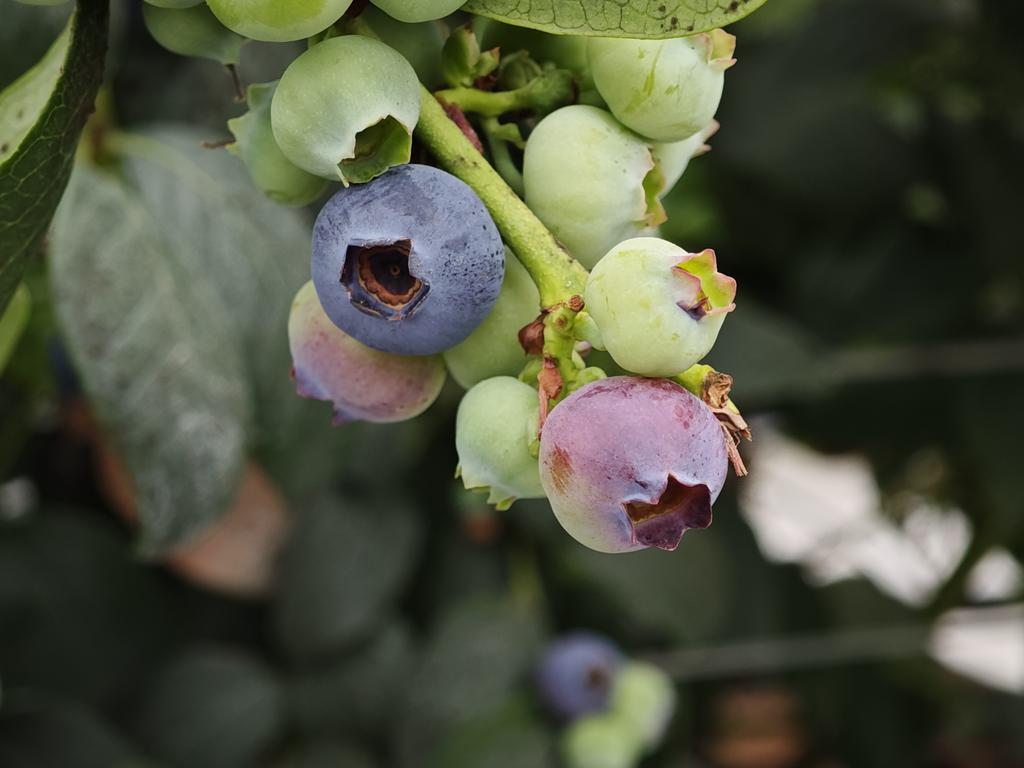RipeBlueBerry: (310, 167, 505, 351)
Semi-RipeBlueBerry: (540, 380, 733, 554)
UnripeBlueBerry: (270, 40, 417, 182), (587, 237, 735, 376), (524, 104, 671, 243)
